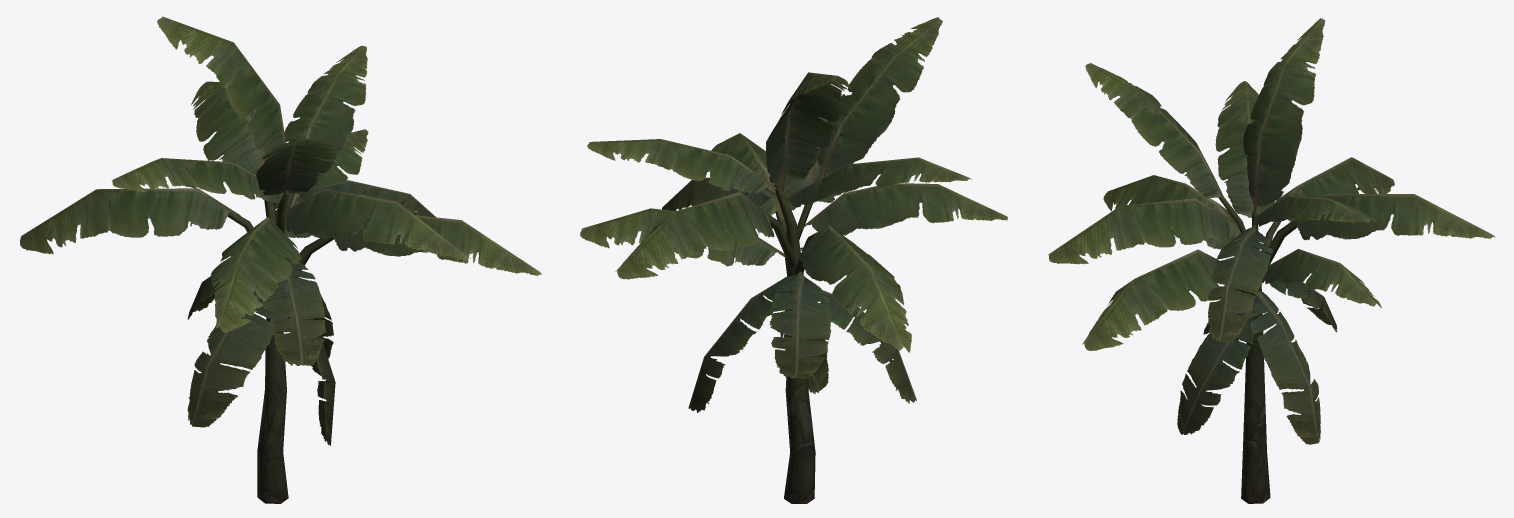
The model's file is wm_灌木芭蕉01.fbx.
The picture shows the model from 3 angles, left to right: view 1: azimuth 30°, elevation 25°; view 2: azimuth 150°, elevation 25°; view 3: azimuth 270°, elevation 25°; orthographic projection. The views are drawn at different scales.
Parts seen in each view (by area): view 1: wm_灌木芭蕉01; view 2: wm_灌木芭蕉01; view 3: wm_灌木芭蕉01.
Part boxes in pixels (<box>): wm_灌木芭蕉01: <box>20,16,541,503</box>; wm_灌木芭蕉01: <box>580,17,1007,503</box>; wm_灌木芭蕉01: <box>1048,18,1494,503</box>.
Bounding box in the file's own units: 382 × 469 × 434.
